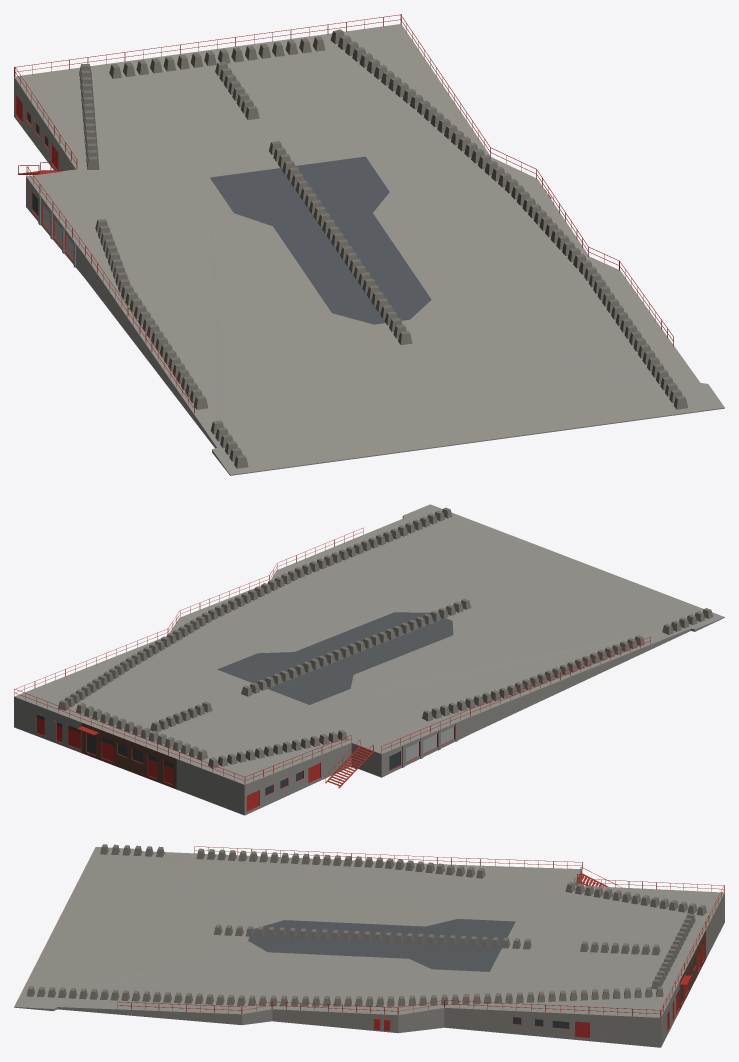
Rendered from y-helling.glb.
The picture shows the model from 3 angles, top to bottom: view 1: azimuth 30°, elevation 25°; view 2: azimuth 150°, elevation 25°; view 3: azimuth 270°, elevation 25°; orthographic projection. The views are drawn at different scales.
Parts seen in each view (by area): view 1: y-helling; view 2: y-helling; view 3: y-helling.
Part boxes in pixels (left/top/right/bottom): y-helling: left=14, top=14, right=724, bottom=475; y-helling: left=14, top=504, right=724, bottom=815; y-helling: left=14, top=844, right=724, bottom=1047.
Bounding box in the file's own units: 65.57 × 5.7 × 98.38.
